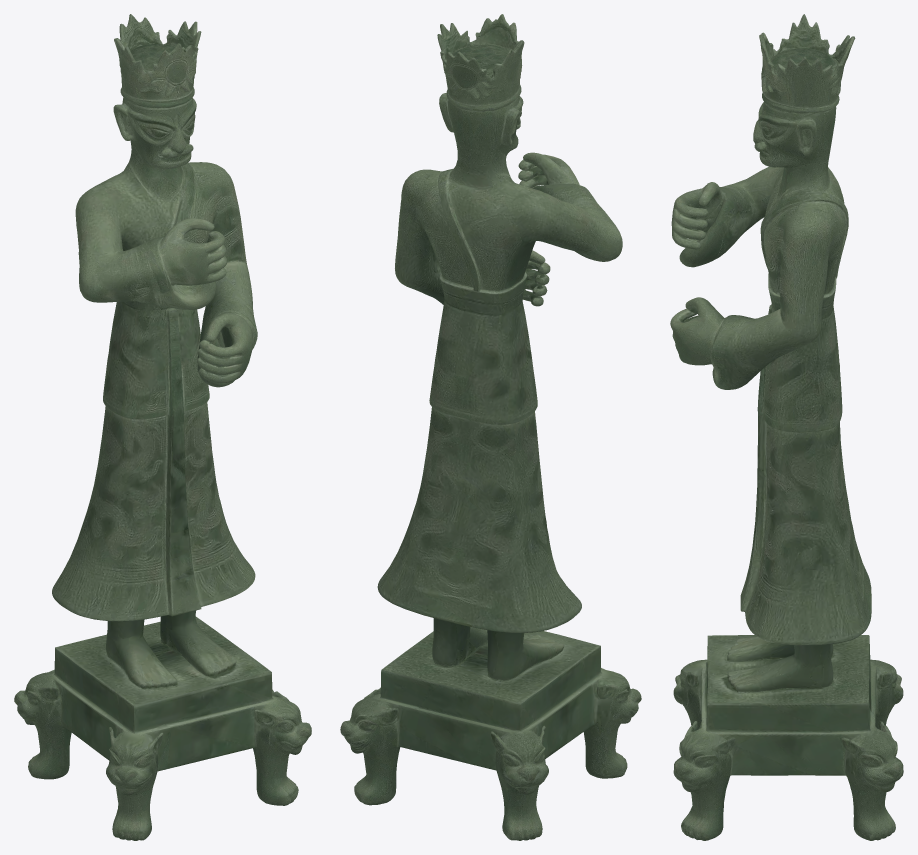
File: figure.glb
3 views of the same model, side by side, from view 1: azimuth 30°, elevation 25°; view 2: azimuth 150°, elevation 25°; view 3: azimuth 270°, elevation 25° (orthographic).
Size of the model in its own units: 0.5347 by 1.9 by 0.5238.
1 material, 1 textured.
